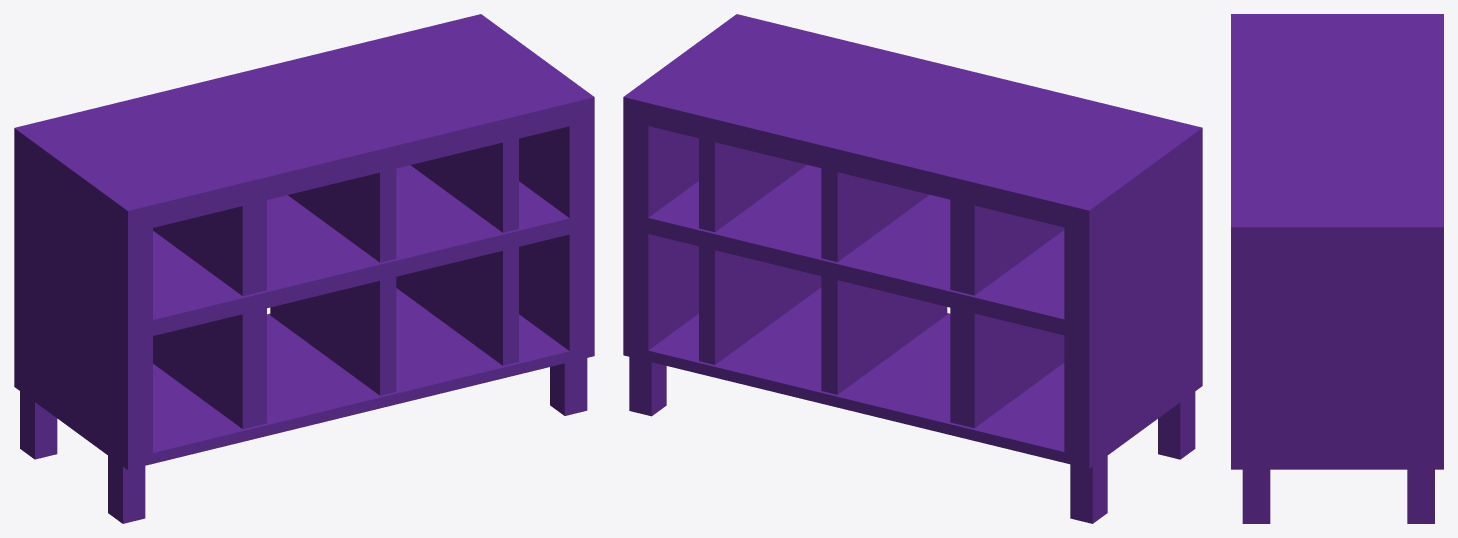
File: cabinet.glb
3 views of the same model, side by side, from view 1: azimuth 30°, elevation 25°; view 2: azimuth 150°, elevation 25°; view 3: azimuth 270°, elevation 25° (orthographic). The views are drawn at different scales.
Visible parts, largest first — view 1: Cube.001; view 2: Cube.001; view 3: Cube.001.
Part boxes in pixels (x1,y1,x2,y2): Cube.001: (14,14,594,523); Cube.001: (623,14,1202,523); Cube.001: (1231,14,1443,523).
Bounding box in the file's own units: 3.11 × 2.02 × 1.31.
